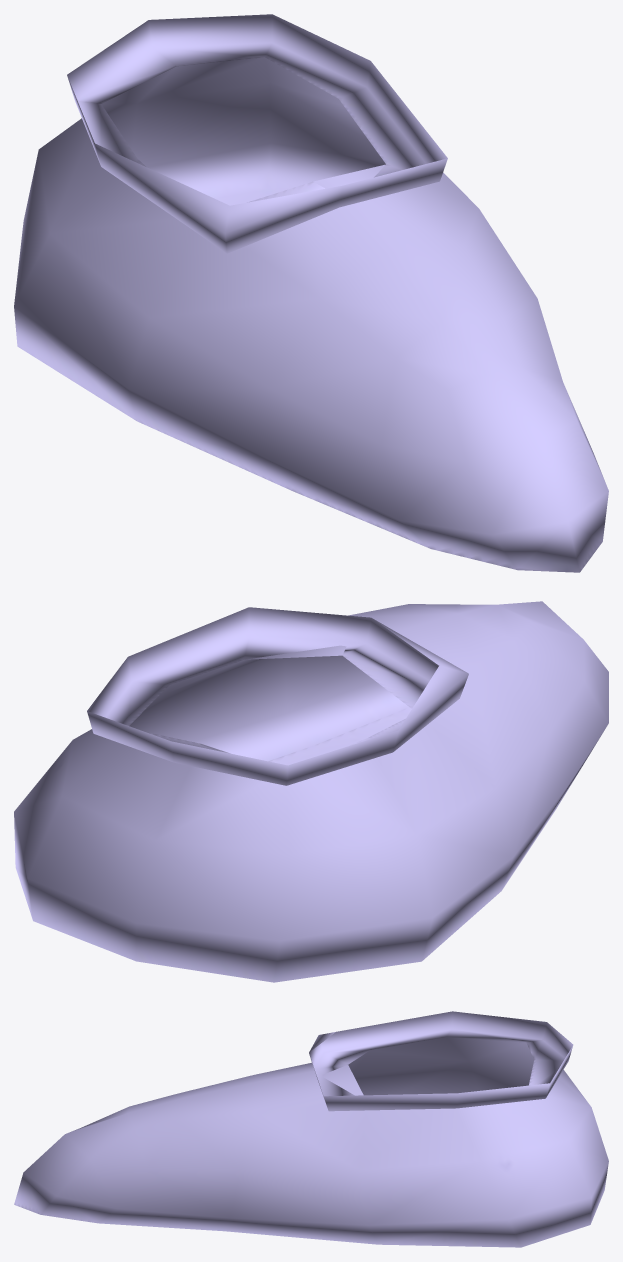
File: pDer.obj
The picture shows the model from 3 angles, top to bottom: view 1: azimuth 30°, elevation 25°; view 2: azimuth 150°, elevation 25°; view 3: azimuth 270°, elevation 25°; orthographic projection. The views are drawn at different scales.
Parts seen in each view (by area): view 1: polySurface65 polySurface54 polySurface30 kaioh:legs01; view 2: polySurface65 polySurface54 polySurface30 kaioh:legs01; view 3: polySurface65 polySurface54 polySurface30 kaioh:legs01.
Boxes of the visible parts, x1,y1,x2,y2 form: polySurface65 polySurface54 polySurface30 kaioh:legs01: (14, 14, 608, 572); polySurface65 polySurface54 polySurface30 kaioh:legs01: (14, 601, 608, 982); polySurface65 polySurface54 polySurface30 kaioh:legs01: (14, 1011, 608, 1247).
Size of the model in its own units: 0.3155 by 0.1748 by 0.5926.
Materials: 1 (1 with a texture image).
